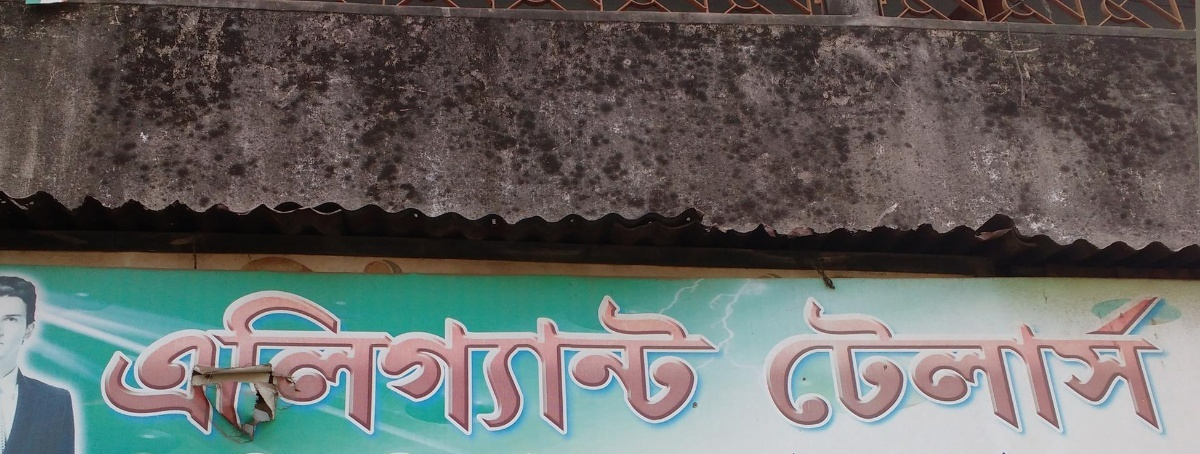text: (97, 287, 112, 446), (113, 287, 128, 446), (129, 287, 144, 446), (145, 287, 160, 446), (161, 287, 176, 446), (177, 287, 192, 446), (193, 287, 208, 446), (209, 287, 224, 446), (225, 287, 240, 446), (241, 287, 256, 446), (257, 287, 272, 446), (273, 287, 288, 446), (289, 287, 304, 446), (305, 287, 320, 446), (321, 287, 336, 446), (337, 287, 352, 446), (353, 287, 368, 446), (369, 287, 384, 446), (385, 287, 400, 446), (401, 287, 416, 446), (417, 287, 432, 446), (433, 287, 448, 446), (449, 287, 464, 446), (465, 287, 480, 446), (481, 287, 496, 446), (497, 287, 512, 446), (513, 287, 528, 446), (529, 287, 544, 446), (545, 287, 560, 446), (561, 287, 576, 446), (577, 287, 592, 446), (593, 287, 608, 446), (609, 287, 624, 446), (625, 287, 640, 446), (641, 287, 656, 446), (657, 287, 672, 446), (673, 287, 688, 446), (689, 287, 704, 446), (705, 287, 720, 446), (769, 293, 784, 438), (785, 293, 800, 438), (801, 293, 816, 438), (817, 293, 832, 438), (833, 293, 848, 438), (849, 293, 864, 438), (865, 293, 880, 438), (881, 293, 896, 438), (897, 293, 912, 438), (913, 293, 928, 438), (929, 293, 944, 438), (945, 293, 960, 438), (961, 293, 976, 438), (977, 293, 992, 438), (993, 293, 1008, 438), (1009, 293, 1024, 438), (1025, 293, 1040, 438), (1041, 293, 1056, 438), (1057, 293, 1072, 438), (1073, 293, 1088, 438), (1089, 293, 1104, 438), (1105, 293, 1120, 438), (1121, 293, 1136, 438), (1137, 293, 1152, 438), (1153, 293, 1168, 438), (1169, 293, 1175, 438), (721, 287, 726, 446), (765, 293, 768, 438), (95, 287, 96, 446)
